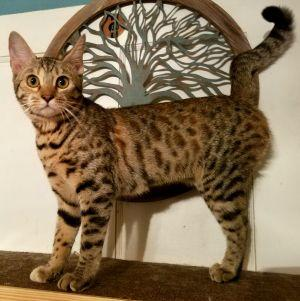bengal: (1, 26, 105, 124)
